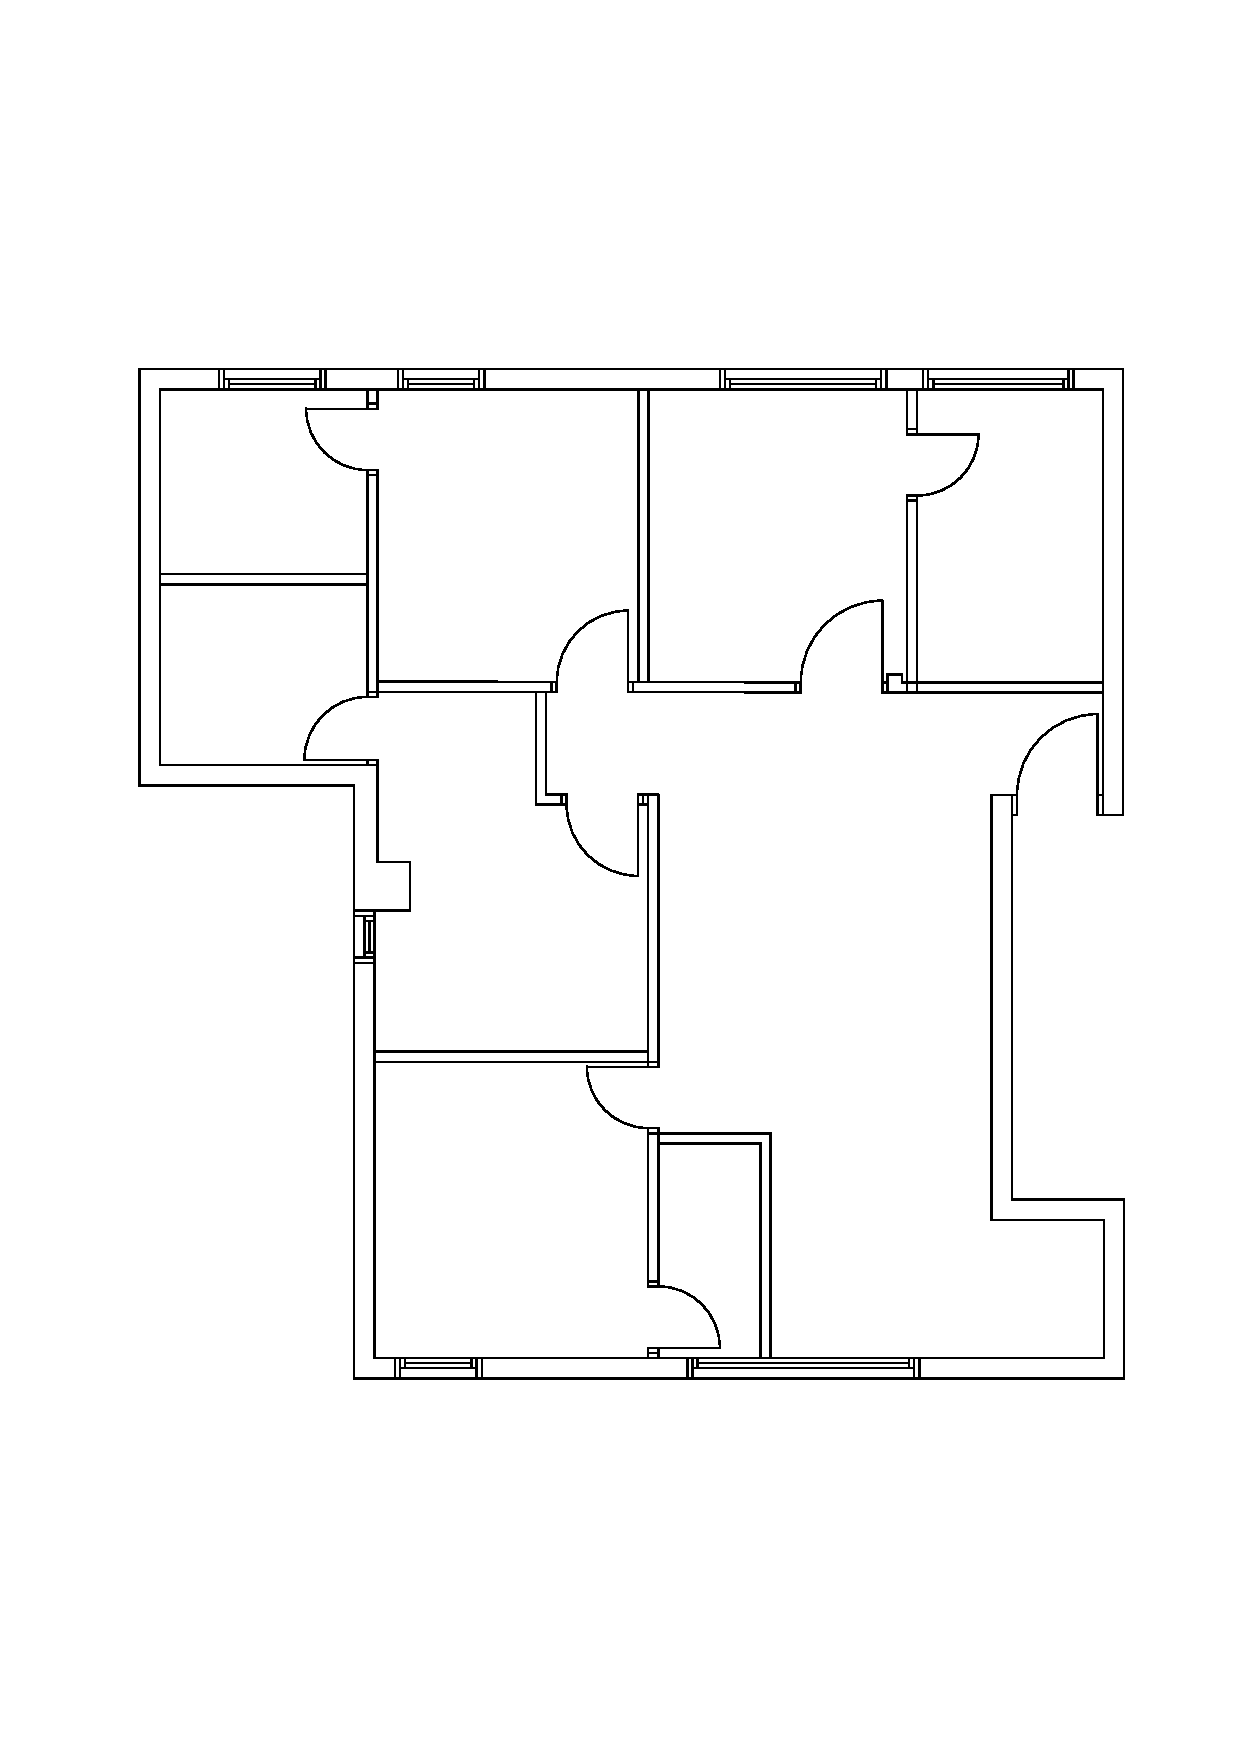door: (796, 596, 892, 672), (1019, 707, 1100, 786), (560, 815, 645, 887), (556, 597, 633, 670), (922, 427, 989, 506), (663, 1275, 731, 1351), (297, 400, 362, 476), (580, 1062, 645, 1137), (297, 688, 362, 760)
wall: (352, 964, 377, 1376), (990, 793, 1015, 1217), (921, 1359, 1121, 1380)
window: (929, 378, 1070, 391), (725, 378, 880, 389), (225, 378, 321, 391), (404, 378, 480, 391), (400, 1358, 476, 1369), (364, 915, 374, 960)
